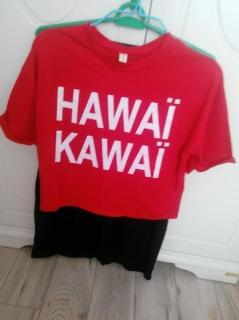short sleeve top: (0, 22, 236, 221)
skirt: (31, 42, 191, 279)
